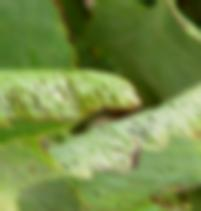Tomato leaf bacterial spot: (43, 60, 201, 210), (0, 64, 149, 152)
